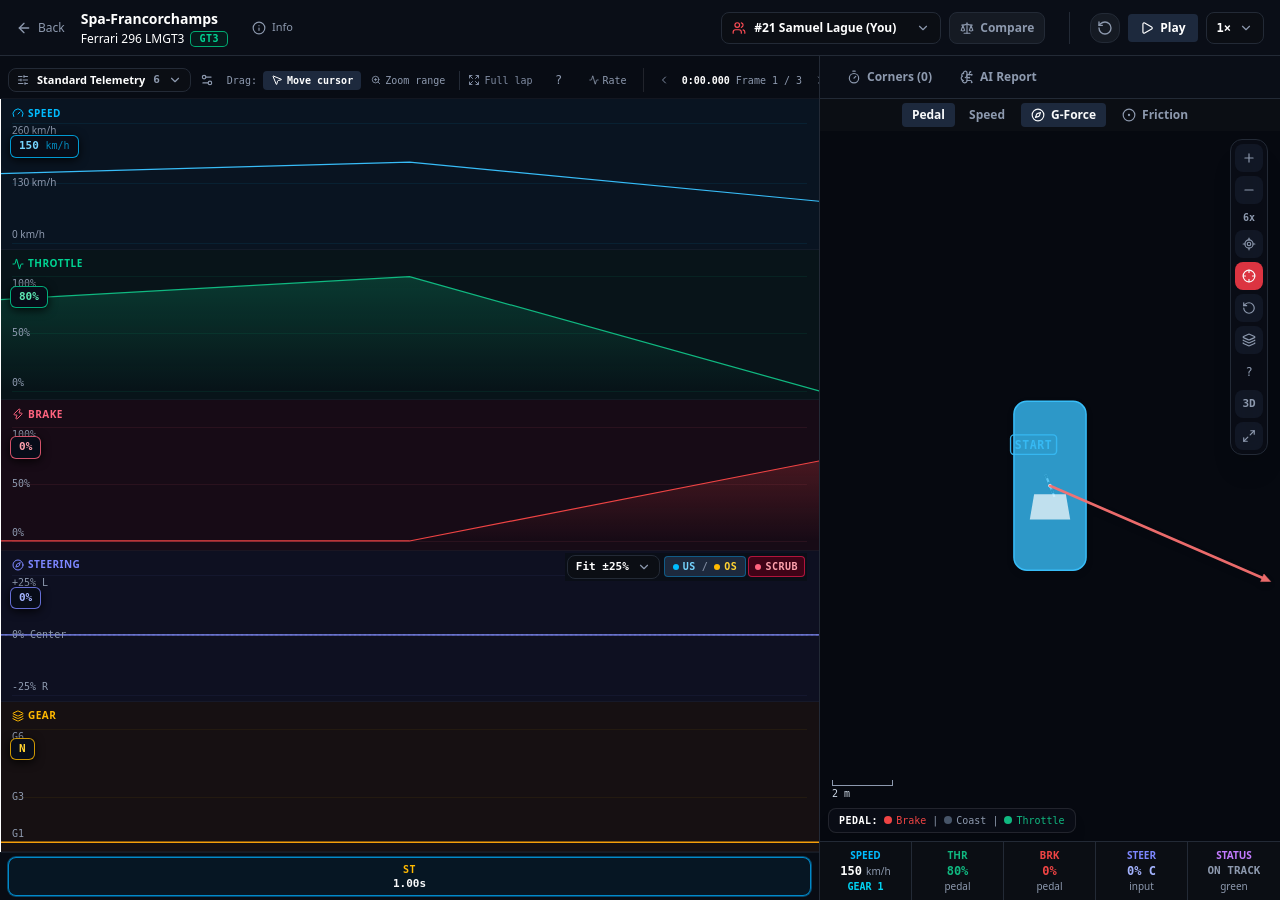
ReplayInspectorModal › shows the Corners tab for self-analysis even without a baseline lap loaded
Expected: the heading "Spa-Francorchamps" is shown, [81, 8, 228, 28]
Click the button "Corners (0)".
click(890, 77)  # box [836, 64, 943, 90]
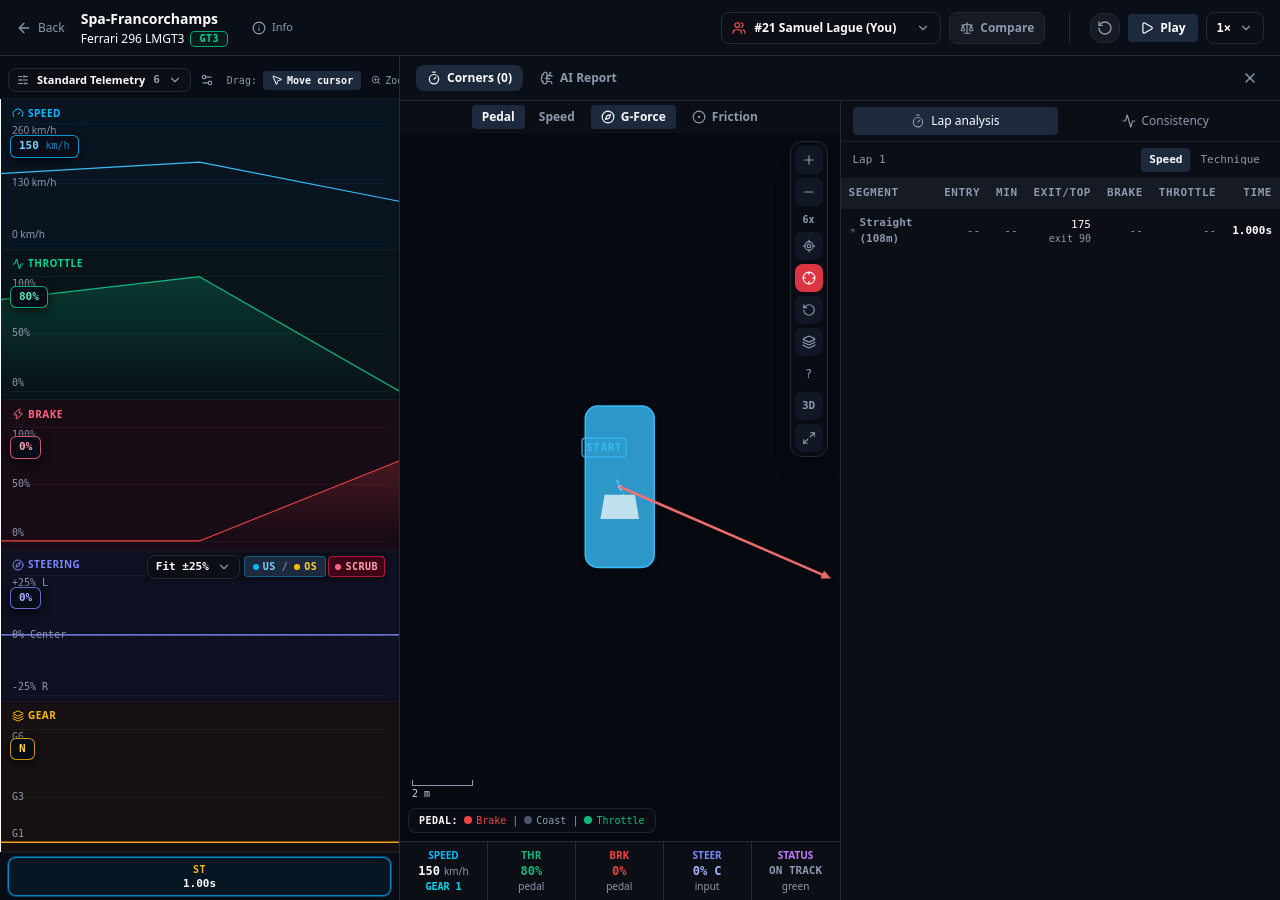
Expected: the text "Straight (108m)" is shown, [848, 216, 912, 245]
